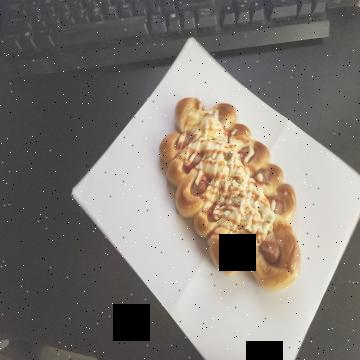pizza_bread: (160, 97, 301, 294)
